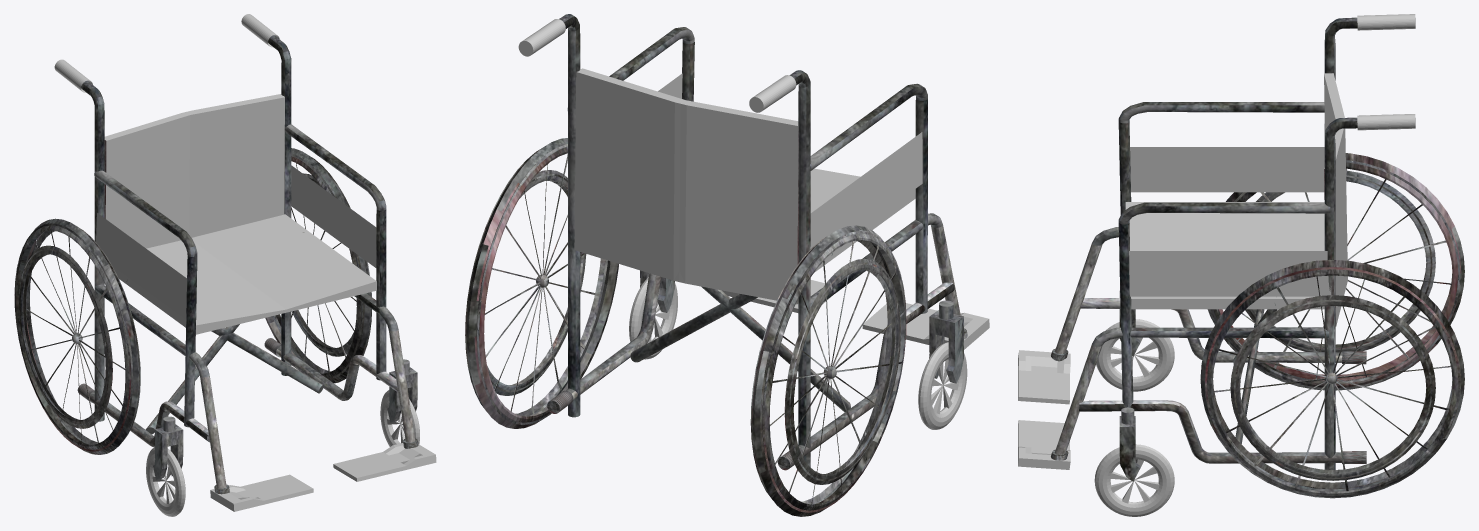
File: VC_edit.fbx
The picture shows the model from 3 angles, left to right: view 1: azimuth 30°, elevation 25°; view 2: azimuth 150°, elevation 25°; view 3: azimuth 270°, elevation 25°; orthographic projection. The views are drawn at different scales.
Visible parts, largest first — view 1: Plane, Cube, Cube.002, Cube.001, Cube.004, Cube.003, Cube.005; view 2: Plane, Cube, Cube.002, Cube.001, Cube.004, Cube.003; view 3: Plane, Cube.002, Cube, Cube.003, Cube.001, Cube.005.
Boxes of the visible parts, x1=… form: Plane: x1=54, y1=14, x2=436, y2=511; Cube: x1=14, y1=218, x2=140, y2=454; Cube.002: x1=265, y1=148, x2=371, y2=383; Cube.001: x1=146, y1=447, x2=185, y2=516; Cube.004: x1=153, y1=416, x2=183, y2=479; Cube.003: x1=380, y1=390, x2=419, y2=446; Cube.005: x1=387, y1=359, x2=417, y2=422; Plane: x1=518, y1=14, x2=989, y2=471; Cube: x1=750, y1=225, x2=906, y2=516; Cube.002: x1=465, y1=138, x2=618, y2=428; Cube.001: x1=918, y1=342, x2=967, y2=429; Cube.004: x1=929, y1=300, x2=963, y2=383; Cube.003: x1=629, y1=277, x2=677, y2=359; Plane: x1=1018, y1=14, x2=1415, y2=469; Cube.002: x1=1200, y1=260, x2=1464, y2=498; Cube: x1=1207, y1=153, x2=1464, y2=390; Cube.003: x1=1094, y1=444, x2=1174, y2=516; Cube.001: x1=1096, y1=319, x2=1174, y2=391; Cube.005: x1=1119, y1=407, x2=1140, y2=481.
Size of the model in its own units: 179 by 233 by 243.
